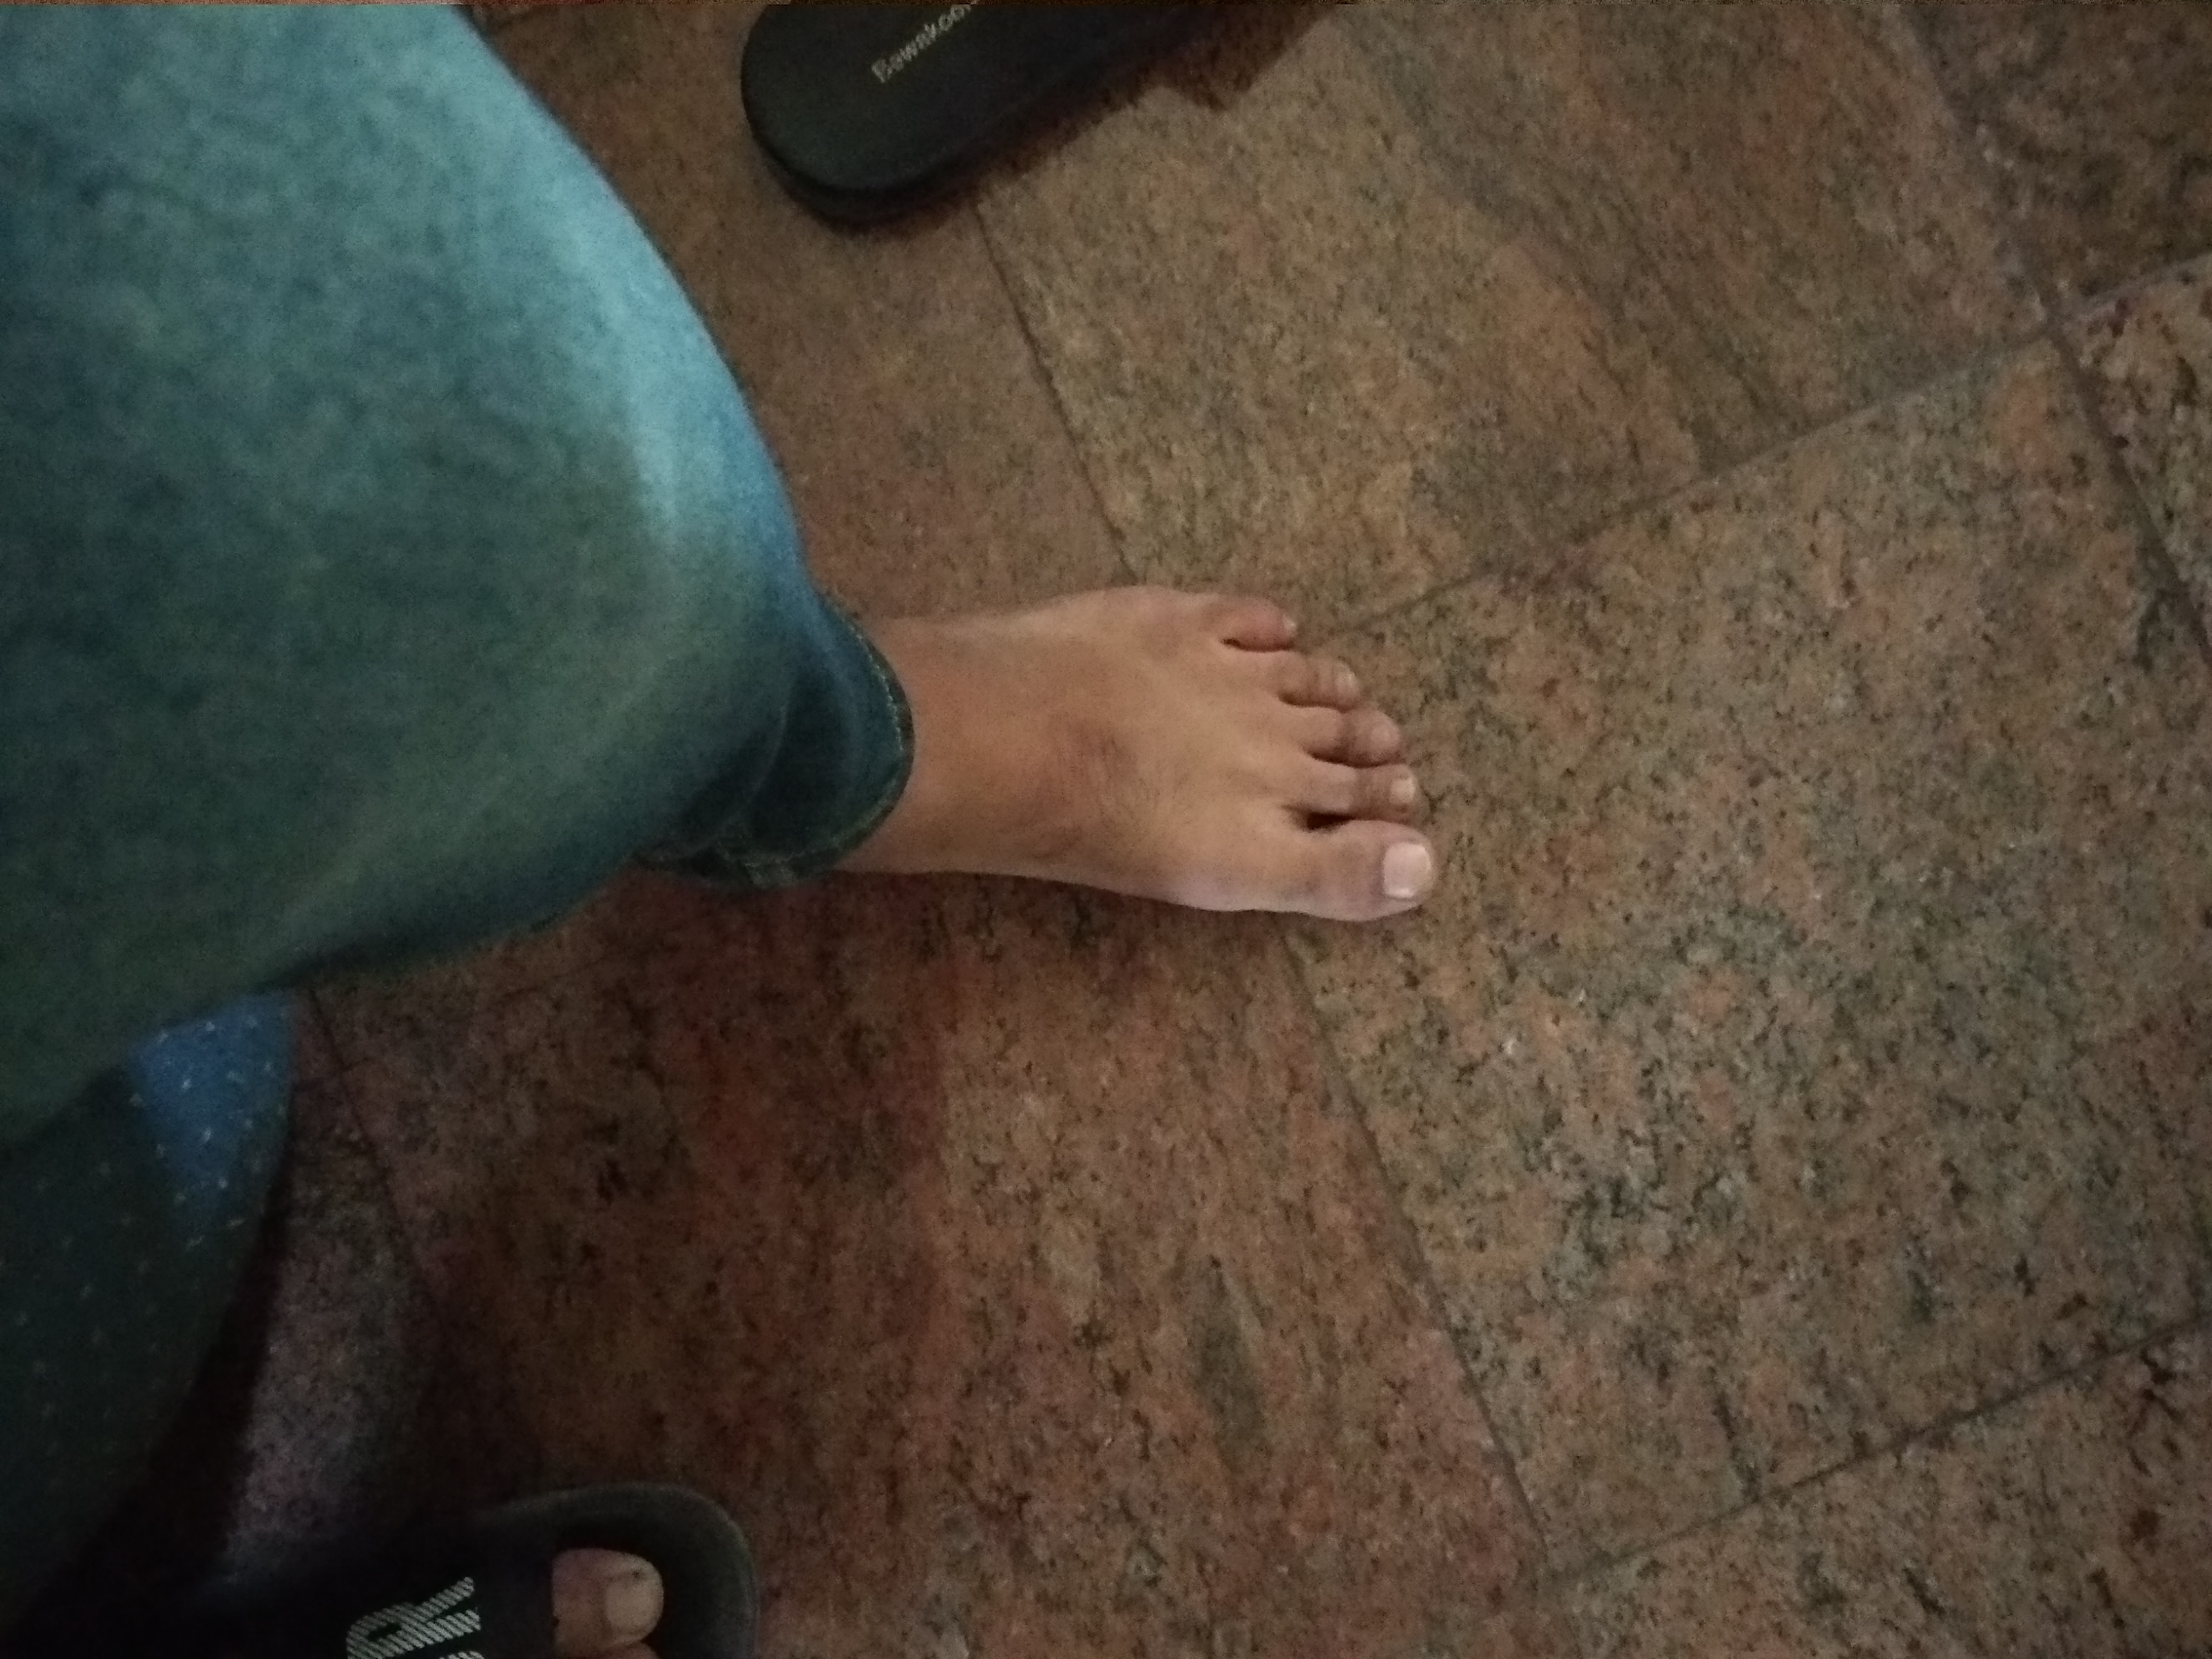feet: (725, 549, 1447, 936)
